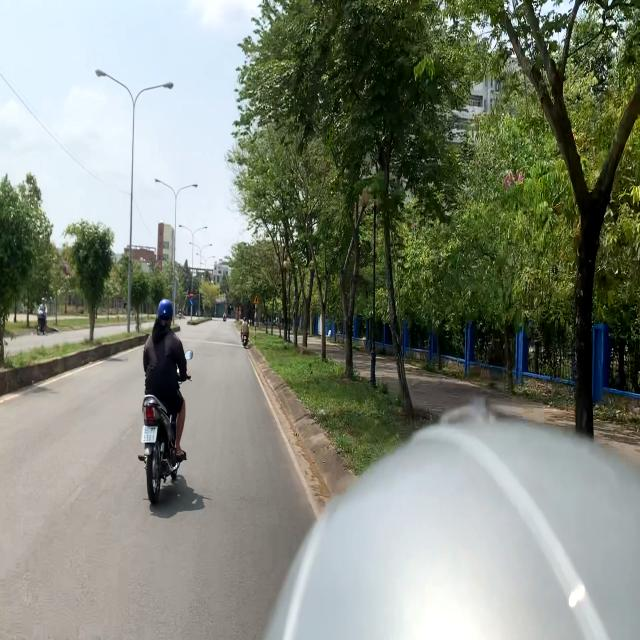P.102: (189, 292, 194, 298)
R.302a: (189, 299, 194, 306)
W.207b: (253, 294, 260, 304)
